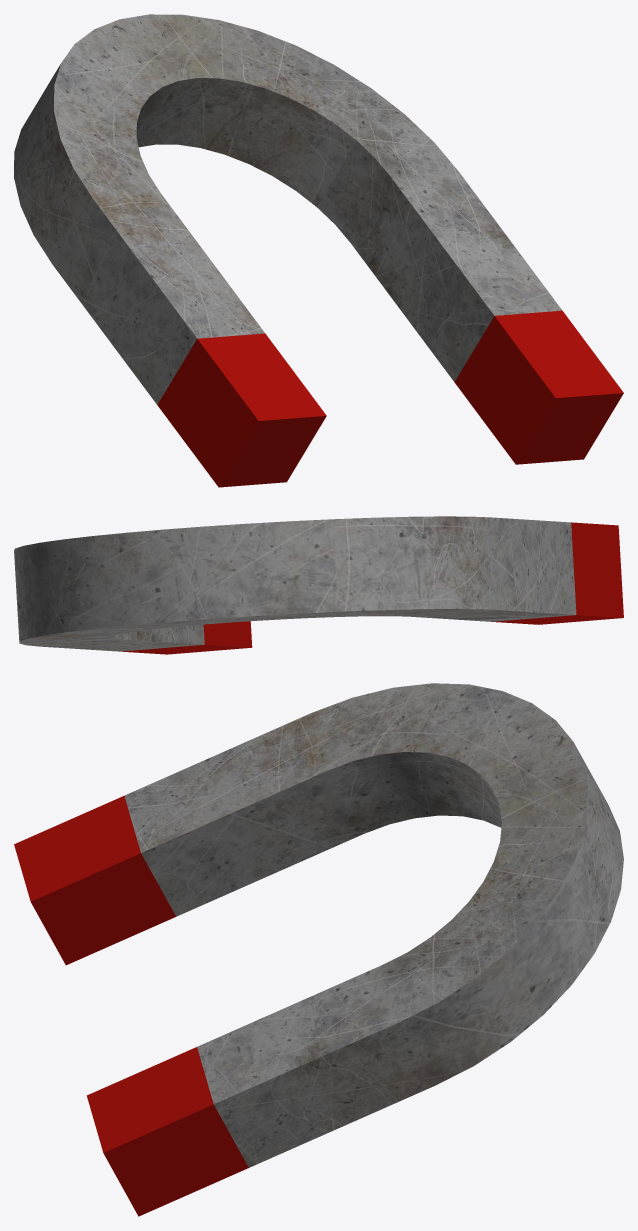
Rendered from magnet.glb.
3 views of the same model, one above another, from view 1: azimuth 30°, elevation 25°; view 2: azimuth 150°, elevation 25°; view 3: azimuth 270°, elevation 25° (orthographic).
Parts seen in each view (by area): view 1: Cube, Cube.001; view 2: Cube, Cube.001; view 3: Cube, Cube.001.
Part boxes in pixels (bbox=[...]): Cube: bbox=[14, 14, 562, 404]; Cube.001: bbox=[157, 310, 623, 487]; Cube: bbox=[14, 516, 576, 651]; Cube.001: bbox=[121, 522, 623, 654]; Cube: bbox=[124, 683, 623, 1167]; Cube.001: bbox=[14, 796, 248, 1216].
Size of the model in its own units: 11.31 by 8.41 by 13.03.
Materials: 2 (1 with a texture image).
